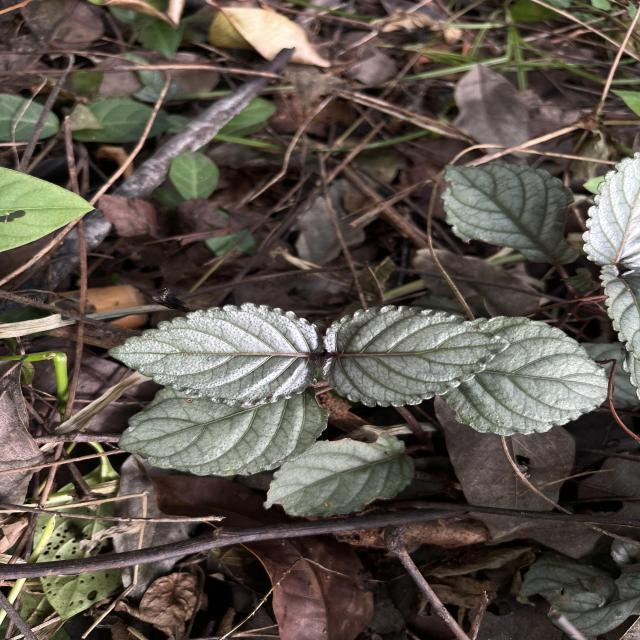Hemigraphis colorata: (105, 300, 325, 410), (437, 314, 618, 438), (320, 302, 513, 410), (116, 386, 332, 478), (436, 158, 584, 266), (260, 430, 418, 518), (580, 149, 640, 273)
